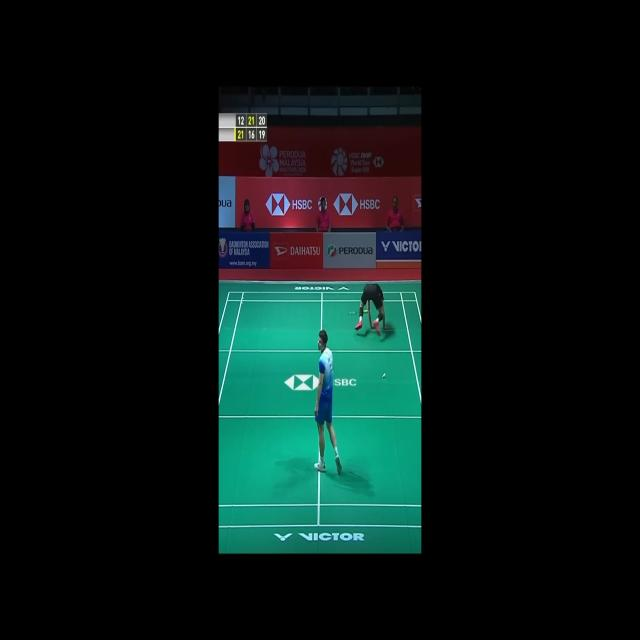shuttle-P15u: (383, 373, 387, 380)
